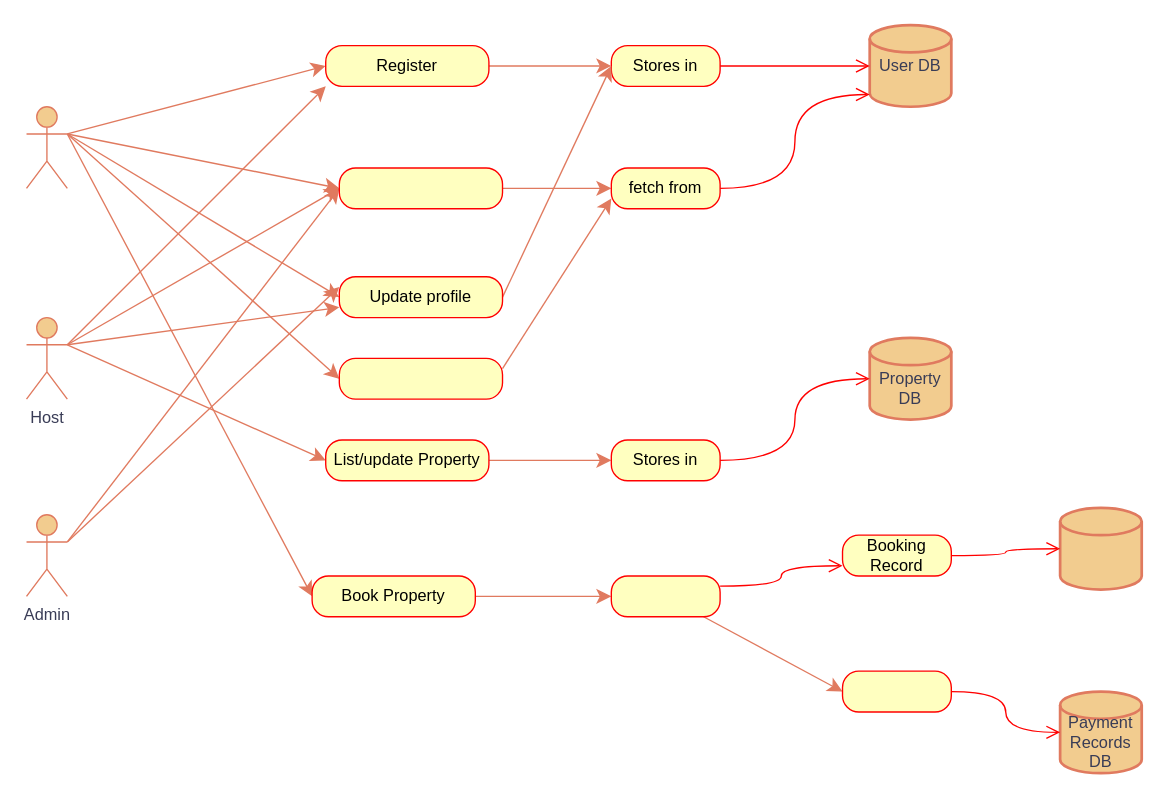
This 1166x797 diagram has some shape labels left out. Here are the shapes that lost their labels. From the top down, the box of each, then its label:
(25, 105, 67, 188): Guest
(338, 167, 503, 209): Login
(338, 357, 503, 399): Seach Property
(1058, 506, 1142, 590): Booking DB
(610, 575, 720, 617): Process
(841, 670, 951, 712): Payment Info
